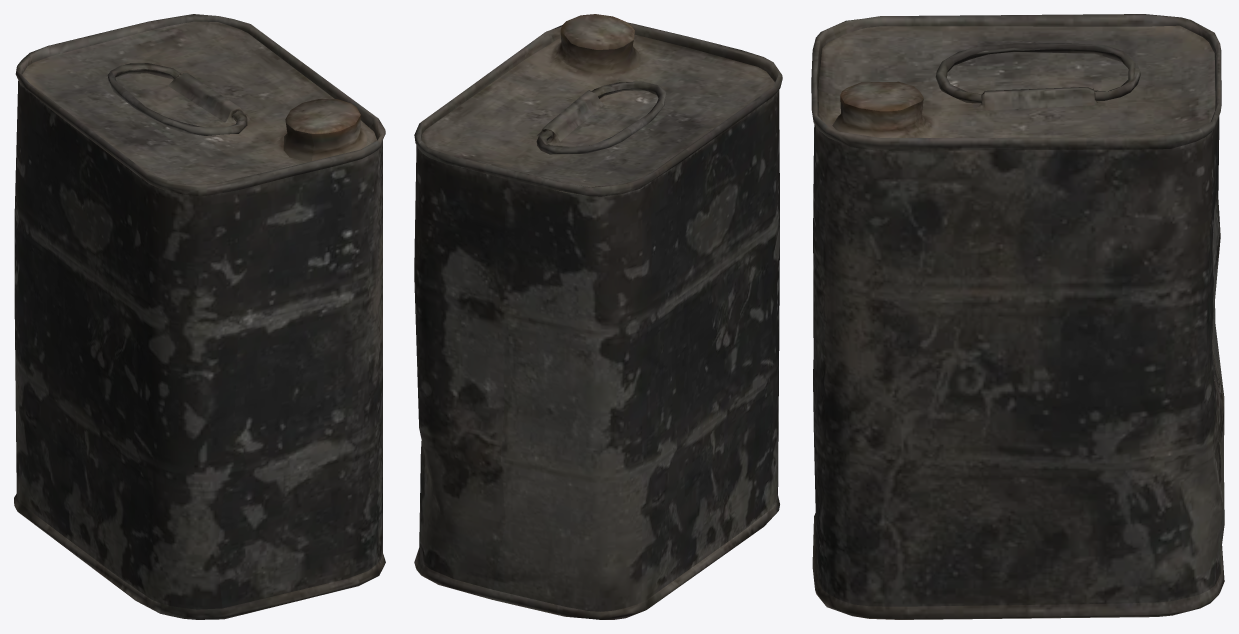
File: oil_tin.glb
3 renders of one model, left to right at view 1: azimuth 30°, elevation 25°; view 2: azimuth 150°, elevation 25°; view 3: azimuth 270°, elevation 25°, orthographic. The views are drawn at different scales.
Visible parts, largest first — view 1: oil_tin, oil_tin_handle; view 2: oil_tin, oil_tin_handle; view 3: oil_tin, oil_tin_handle.
Part boxes in pixels (x1,y1,x2,y2): oil_tin: (14, 14, 385, 619); oil_tin_handle: (107, 63, 247, 135); oil_tin: (414, 14, 782, 619); oil_tin_handle: (536, 81, 666, 154); oil_tin: (811, 14, 1224, 619); oil_tin_handle: (935, 43, 1140, 103).
Size of the model in its own units: 0.1144 by 0.2052 by 0.1535.
1 material, 1 textured.
